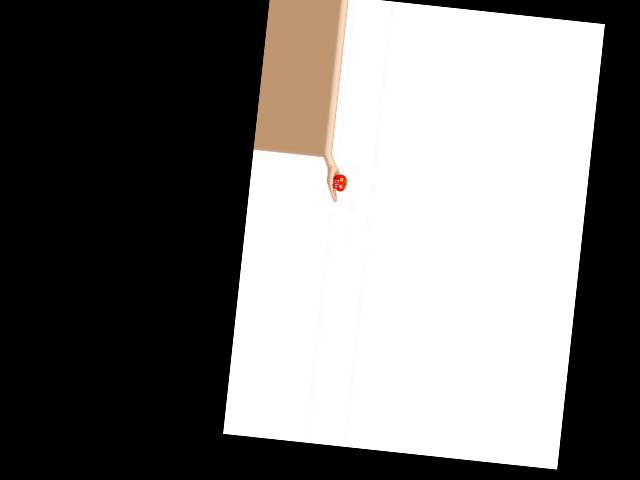tomato: (331, 173, 347, 192)
